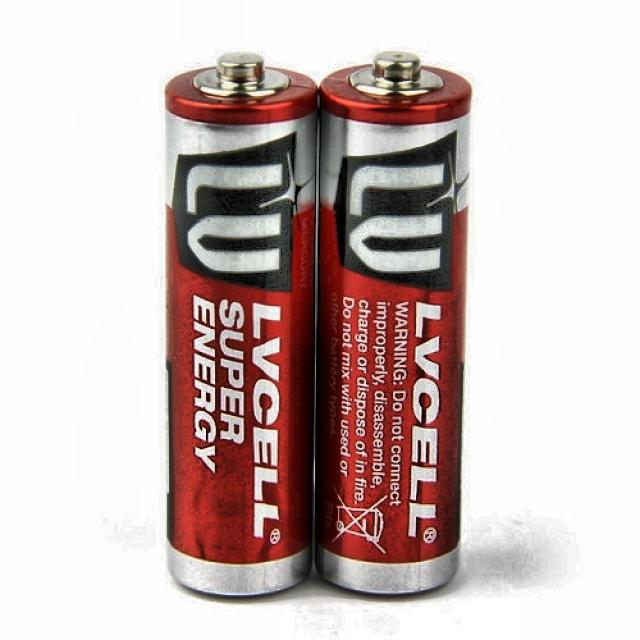Non-Valuable Waste - Batteries: (316, 52, 471, 594), (165, 52, 318, 596)
